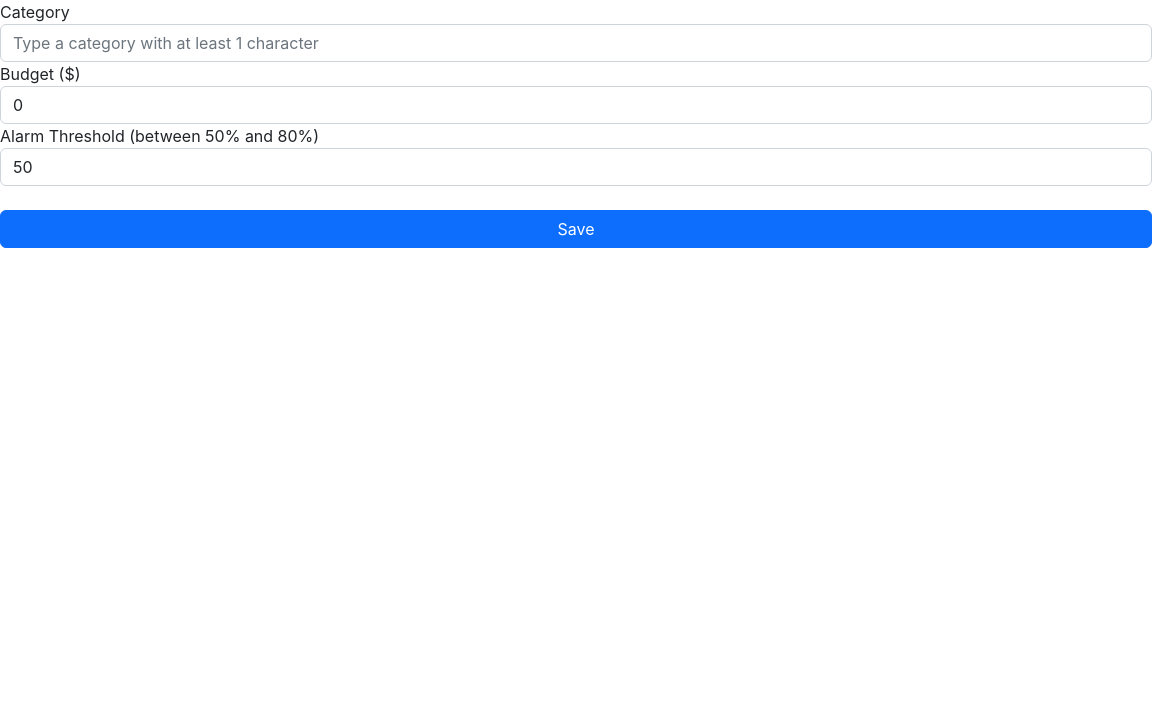
Test case: AddCategoryForm tests › should save the category clicking on Save button
# click on Save button
Click the button "Save": {"x": 576, "y": 229} [0,210,1151,248]
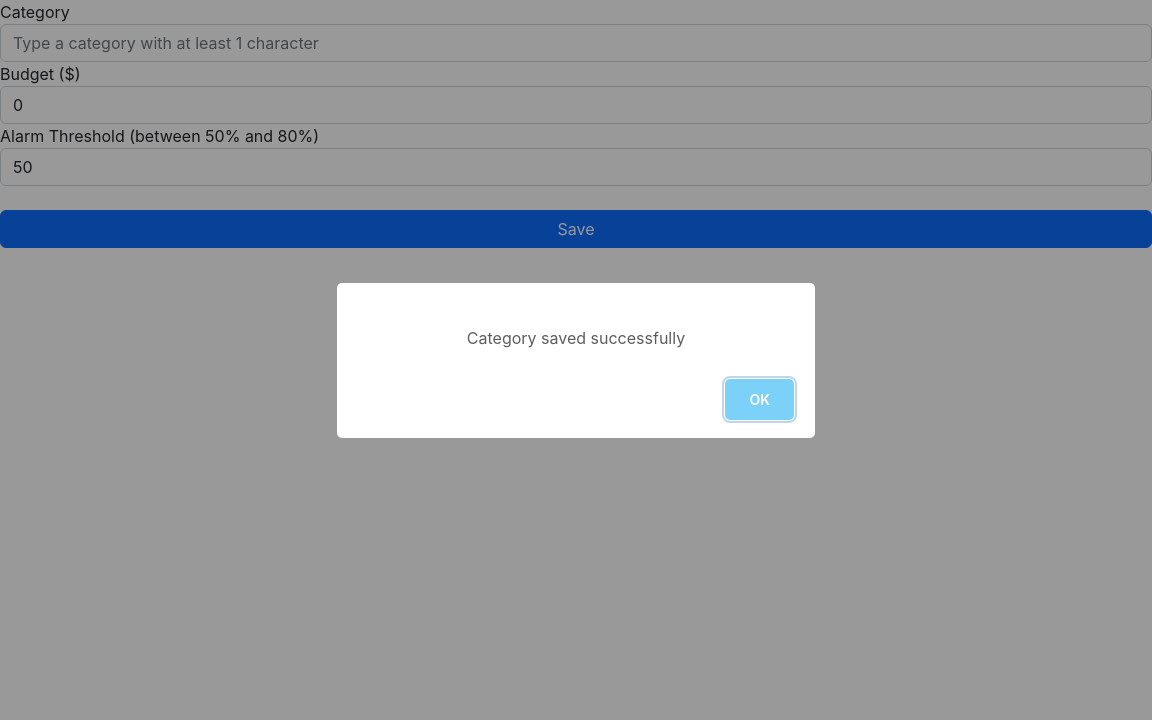
expect the text "Category saved successfully" is shown: met, box [457,328,695,348]
